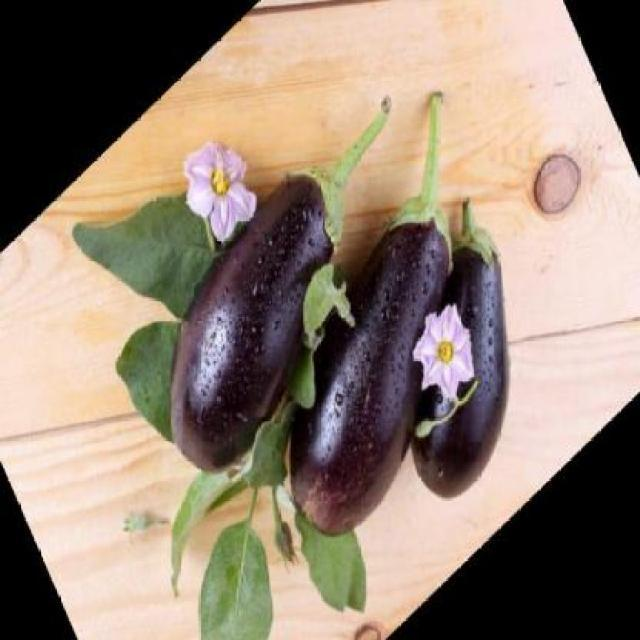eggplant: (168, 92, 394, 476), (282, 87, 457, 525), (344, 197, 510, 500)
